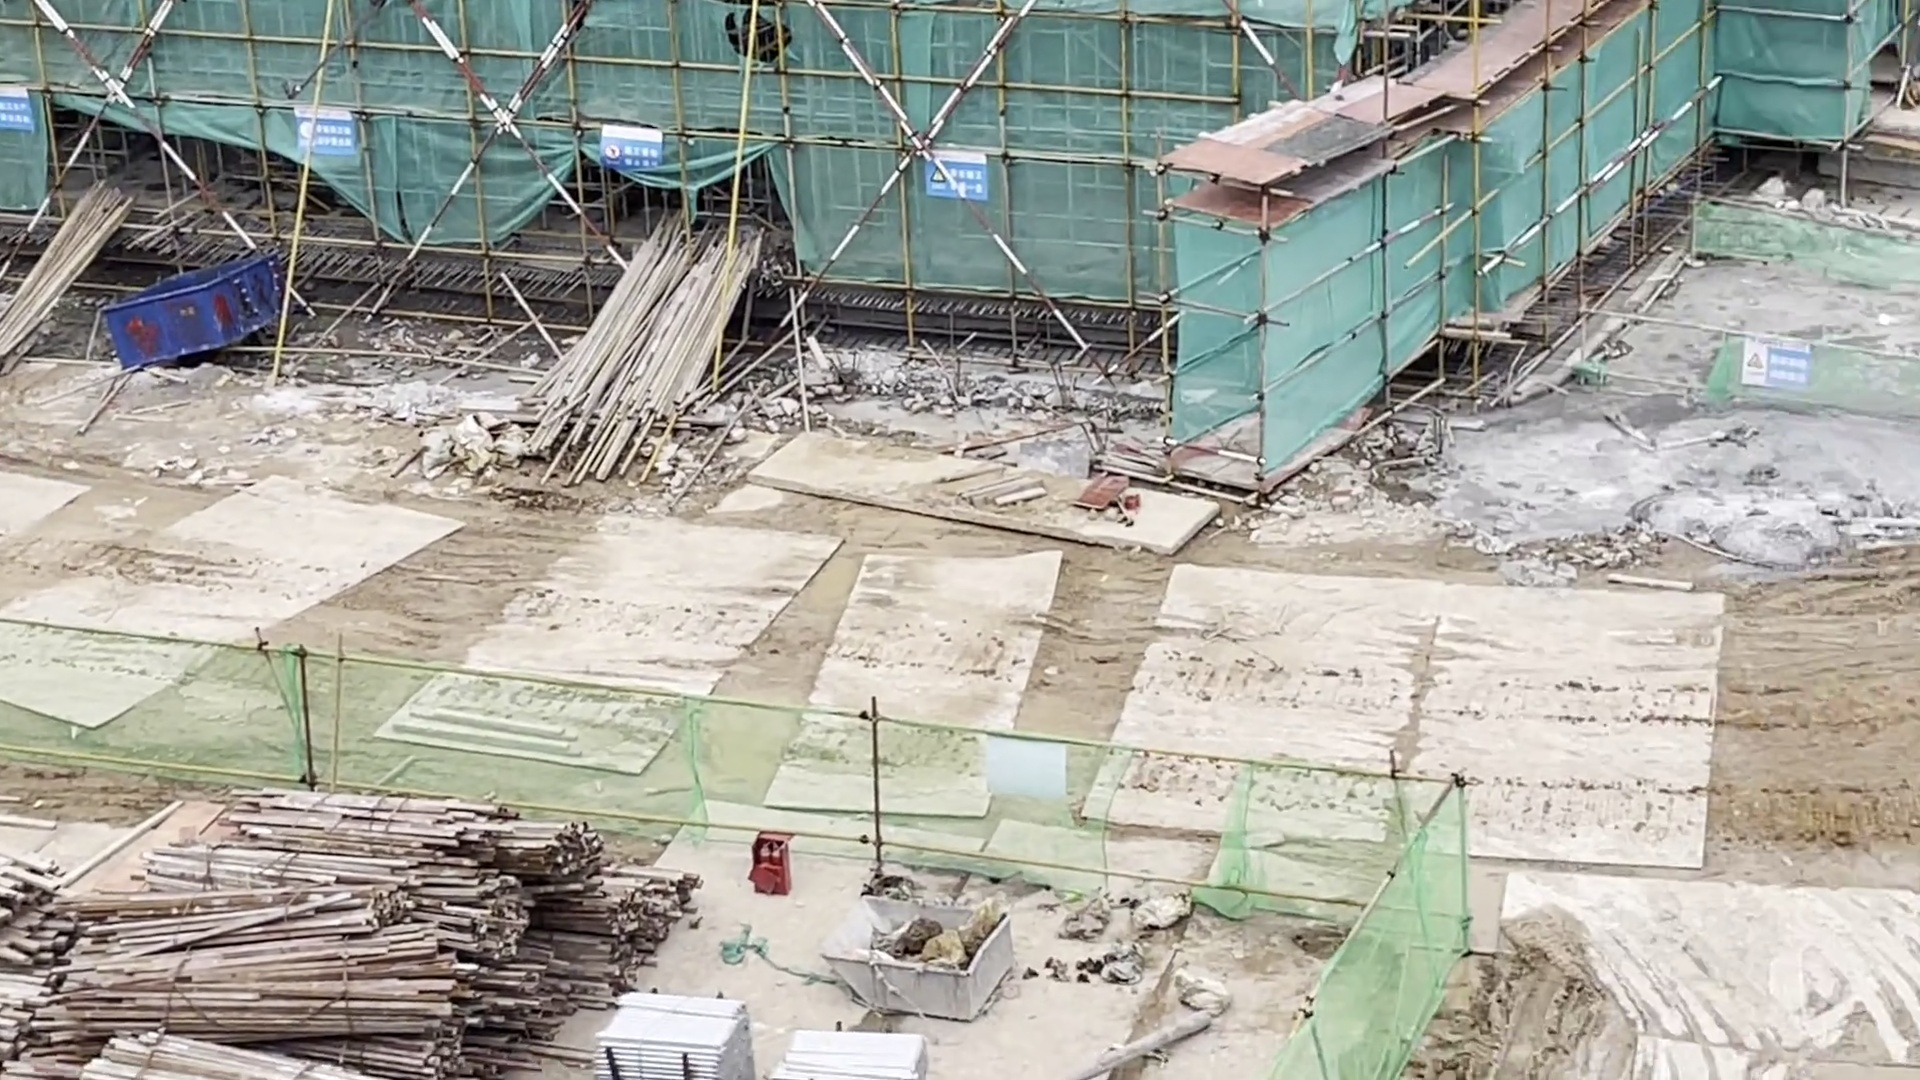hopper: (109, 262, 287, 377)
wood: (98, 775, 589, 1058)
